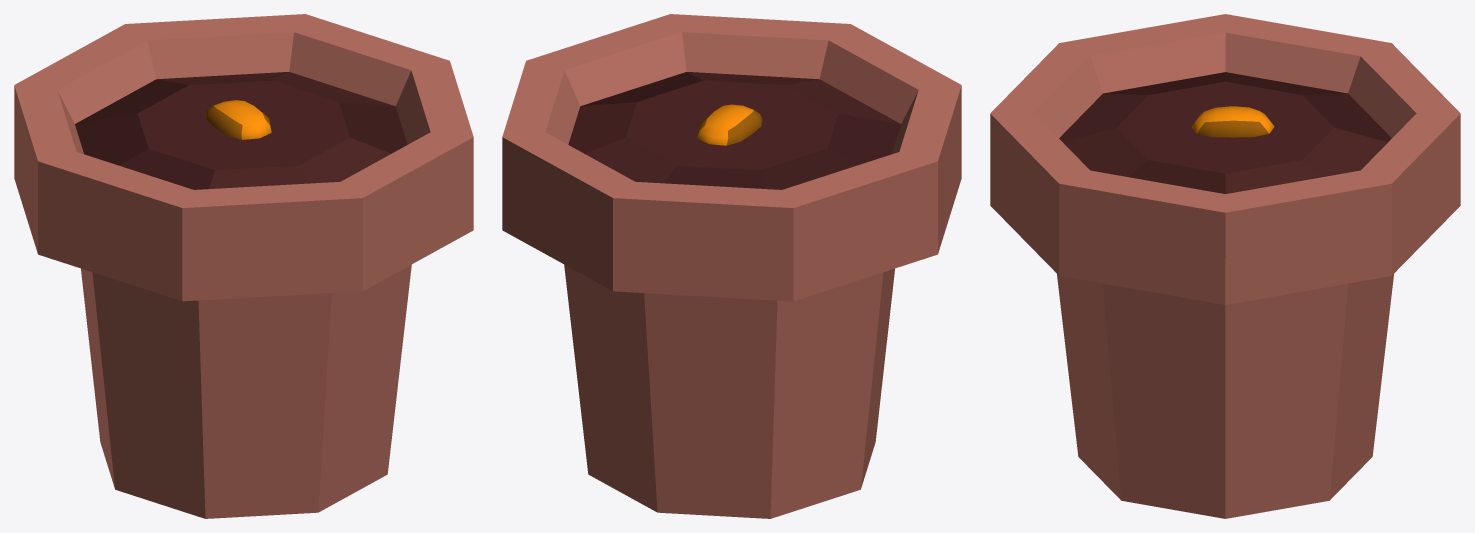
File: wortel pot 1.fbx
The picture shows the model from 3 angles, left to right: view 1: azimuth 30°, elevation 25°; view 2: azimuth 150°, elevation 25°; view 3: azimuth 270°, elevation 25°; orthographic projection.
Parts seen in each view (by area): view 1: pot 1.001, benih; view 2: pot 1.001, benih; view 3: pot 1.001, benih.
Part boxes in pixels (left/top/right/bottom): pot 1.001: left=14, top=14, right=473, bottom=518; benih: left=205, top=100, right=271, bottom=139; pot 1.001: left=502, top=14, right=961, bottom=518; benih: left=697, top=104, right=762, bottom=145; pot 1.001: left=990, top=14, right=1460, bottom=518; benih: left=1192, top=106, right=1274, bottom=137.
Size of the model in its own units: 49.53 by 40.07 by 49.53.
